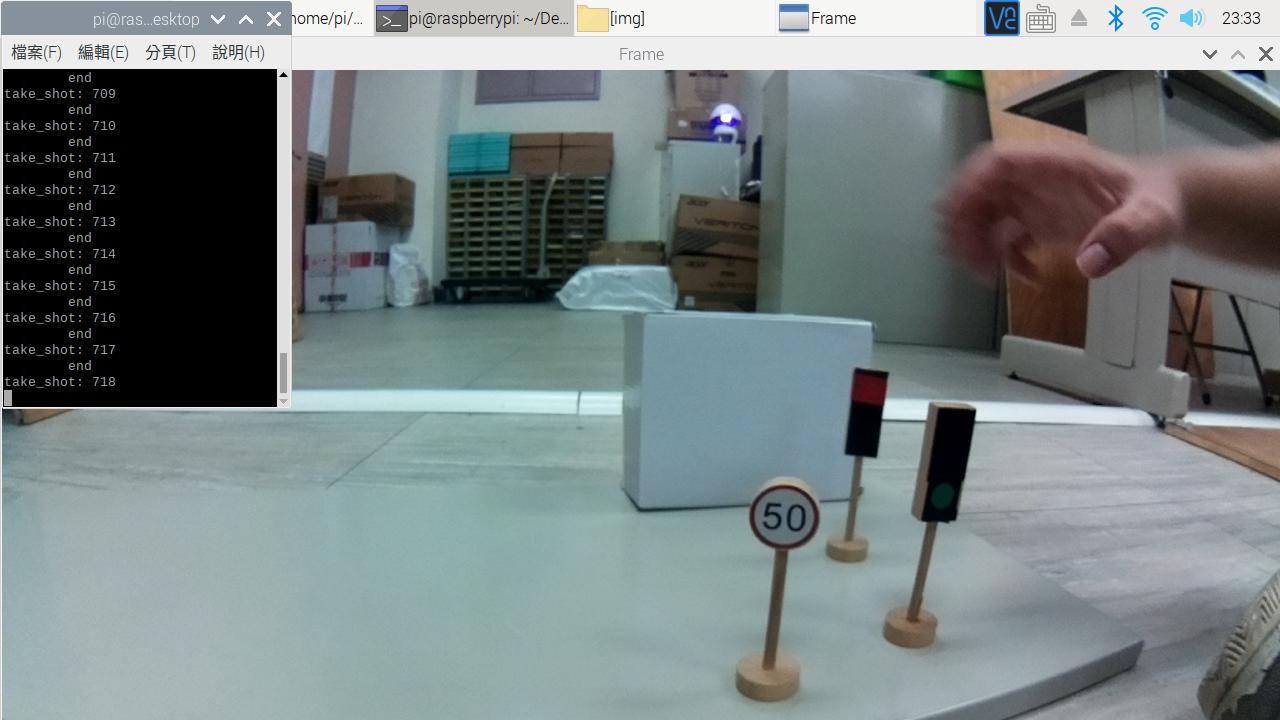Green: (913, 399, 976, 530)
Red: (847, 362, 885, 468)
Speed50: (746, 474, 822, 557)
